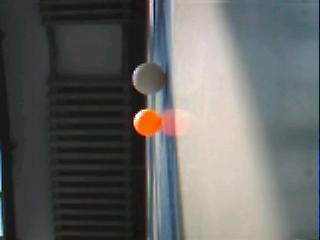oball: (133, 109, 162, 136)
